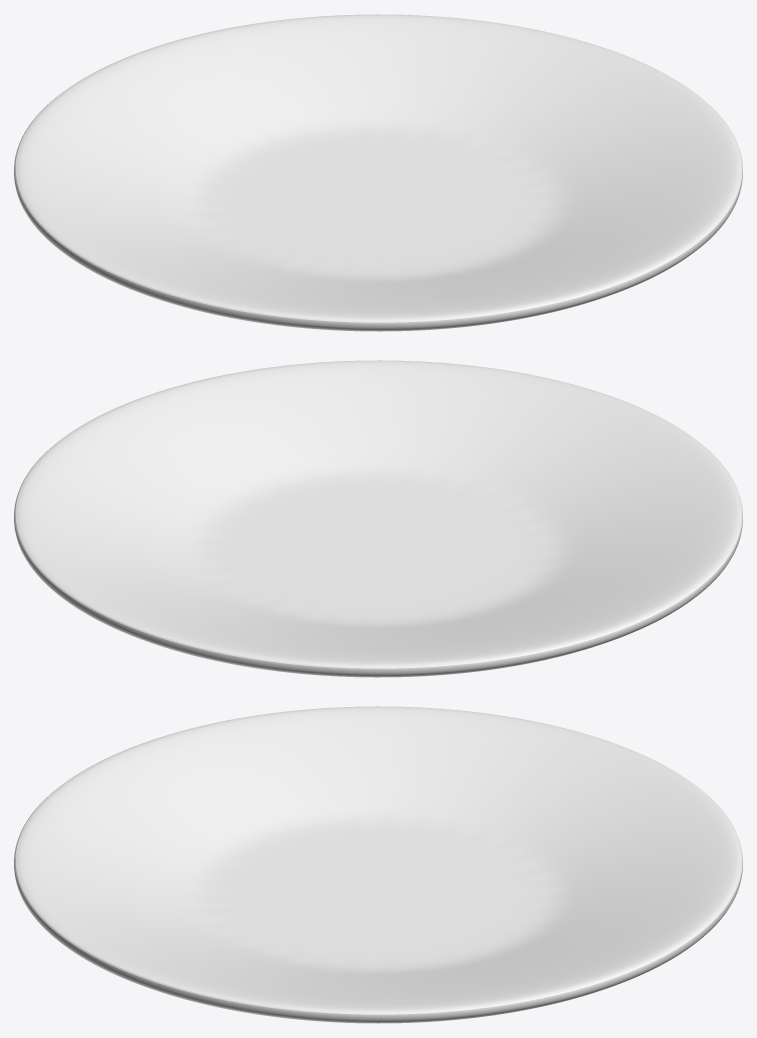
The model's file is тарелка.glb.
3 views of the same model, one above another, from view 1: azimuth 30°, elevation 25°; view 2: azimuth 150°, elevation 25°; view 3: azimuth 270°, elevation 25° (orthographic).
Visible parts, largest first — view 1: Object_4; view 2: Object_4; view 3: Object_4.
Boxes of the visible parts, left/top/right/bottom form: Object_4: left=14, top=14, right=742, bottom=331; Object_4: left=14, top=360, right=742, bottom=677; Object_4: left=14, top=706, right=742, bottom=1023.
Bounding box in the file's own units: 0.991 × 0.0694 × 0.991.
Materials: 1 (1 with a texture image).
